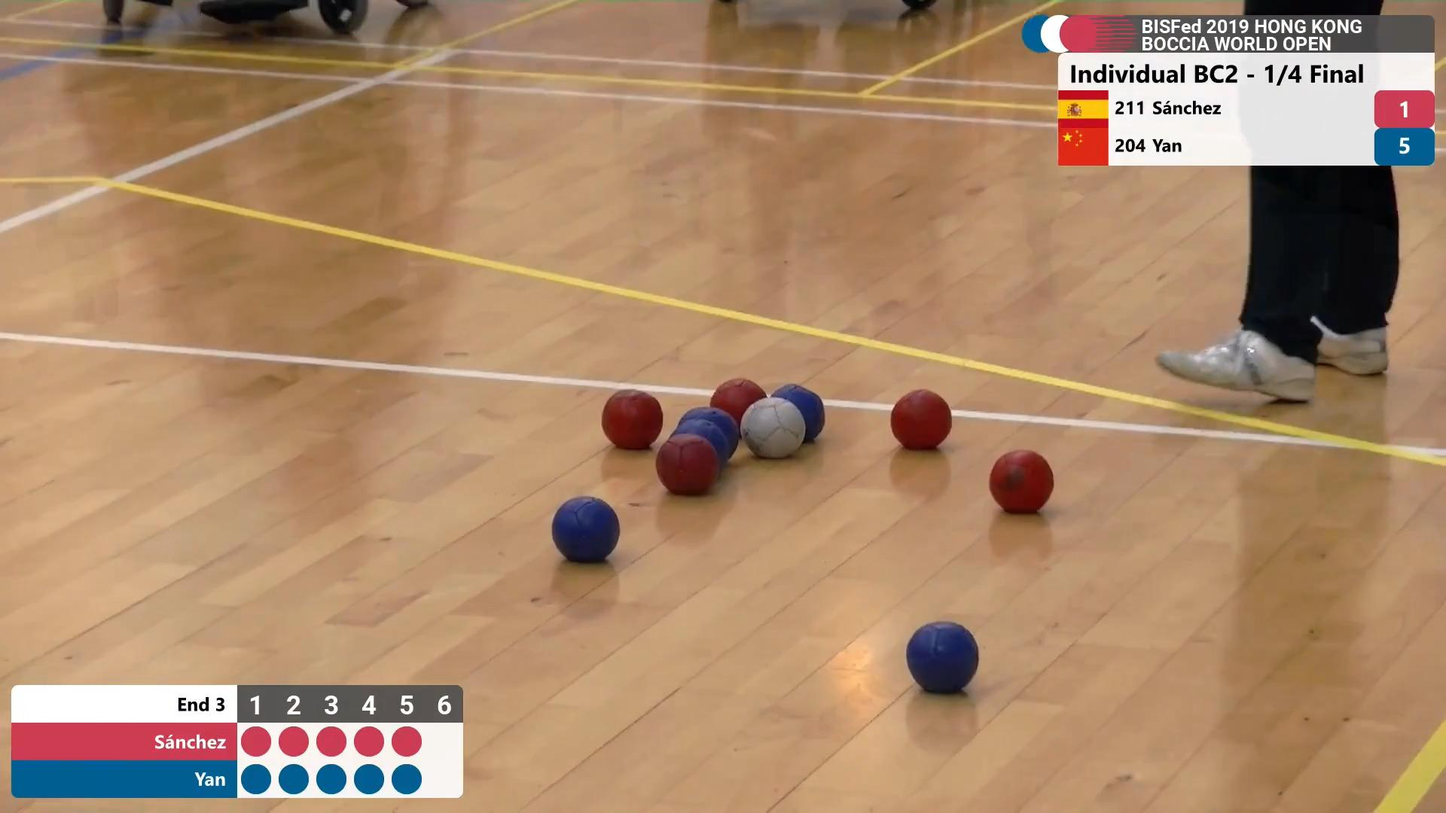blue_ball: (901, 614, 986, 704), (546, 493, 624, 572), (775, 379, 844, 441)
red_ball: (984, 442, 1059, 520), (592, 383, 670, 455), (649, 430, 727, 500), (886, 384, 959, 458), (708, 370, 771, 428)
white_ball: (737, 392, 810, 468)
